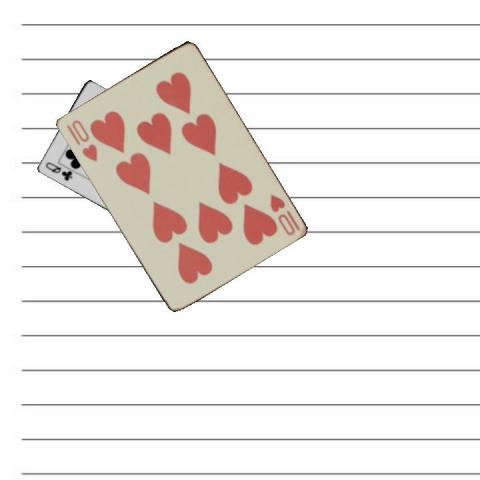10h: (62, 116, 98, 163), (266, 191, 301, 237)
Qc: (42, 158, 73, 183)
